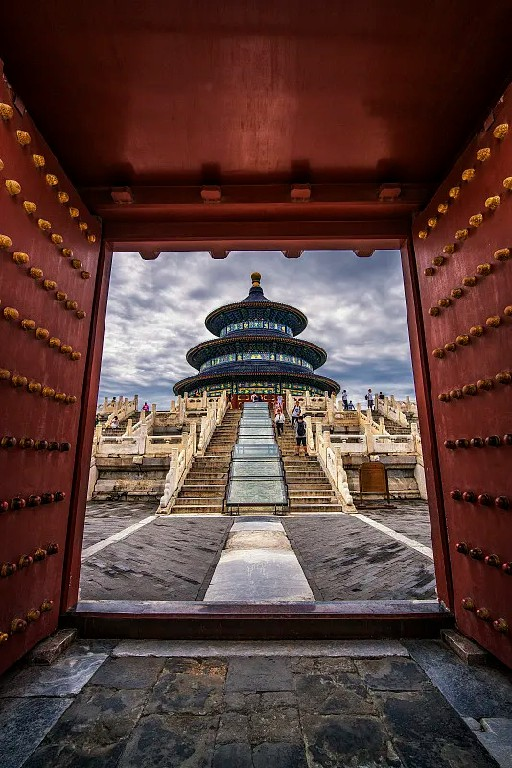Heaven: (172, 272, 342, 398)
